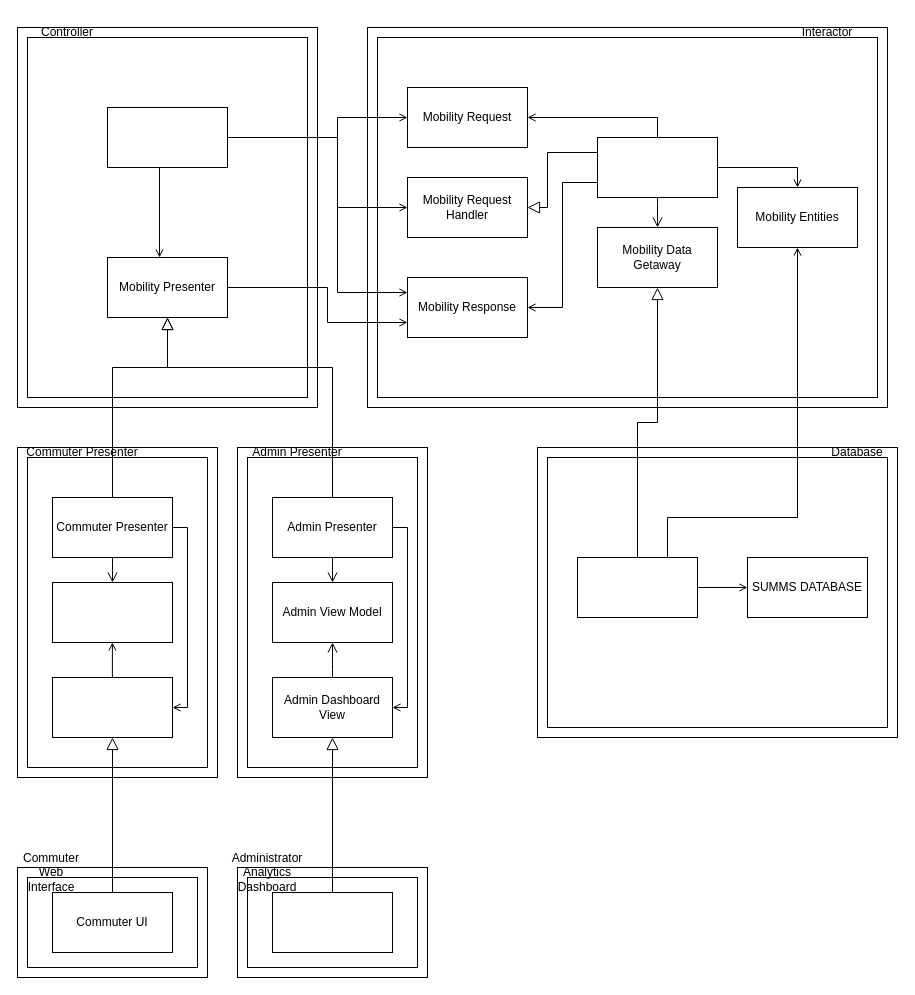
The diagram is 915 pixels wide and 995 high, and some of its shapes have lost their labels. The centre of each missing label's shape, as x and y in pixels:
Analytics Report View: point 332,922
Commuter View Model: point 112,612
Commuter Web View: point 112,707
Mobility Controller: point 167,137
Mobility Data Mapper: point 637,587
Mobility Service: point 657,167
